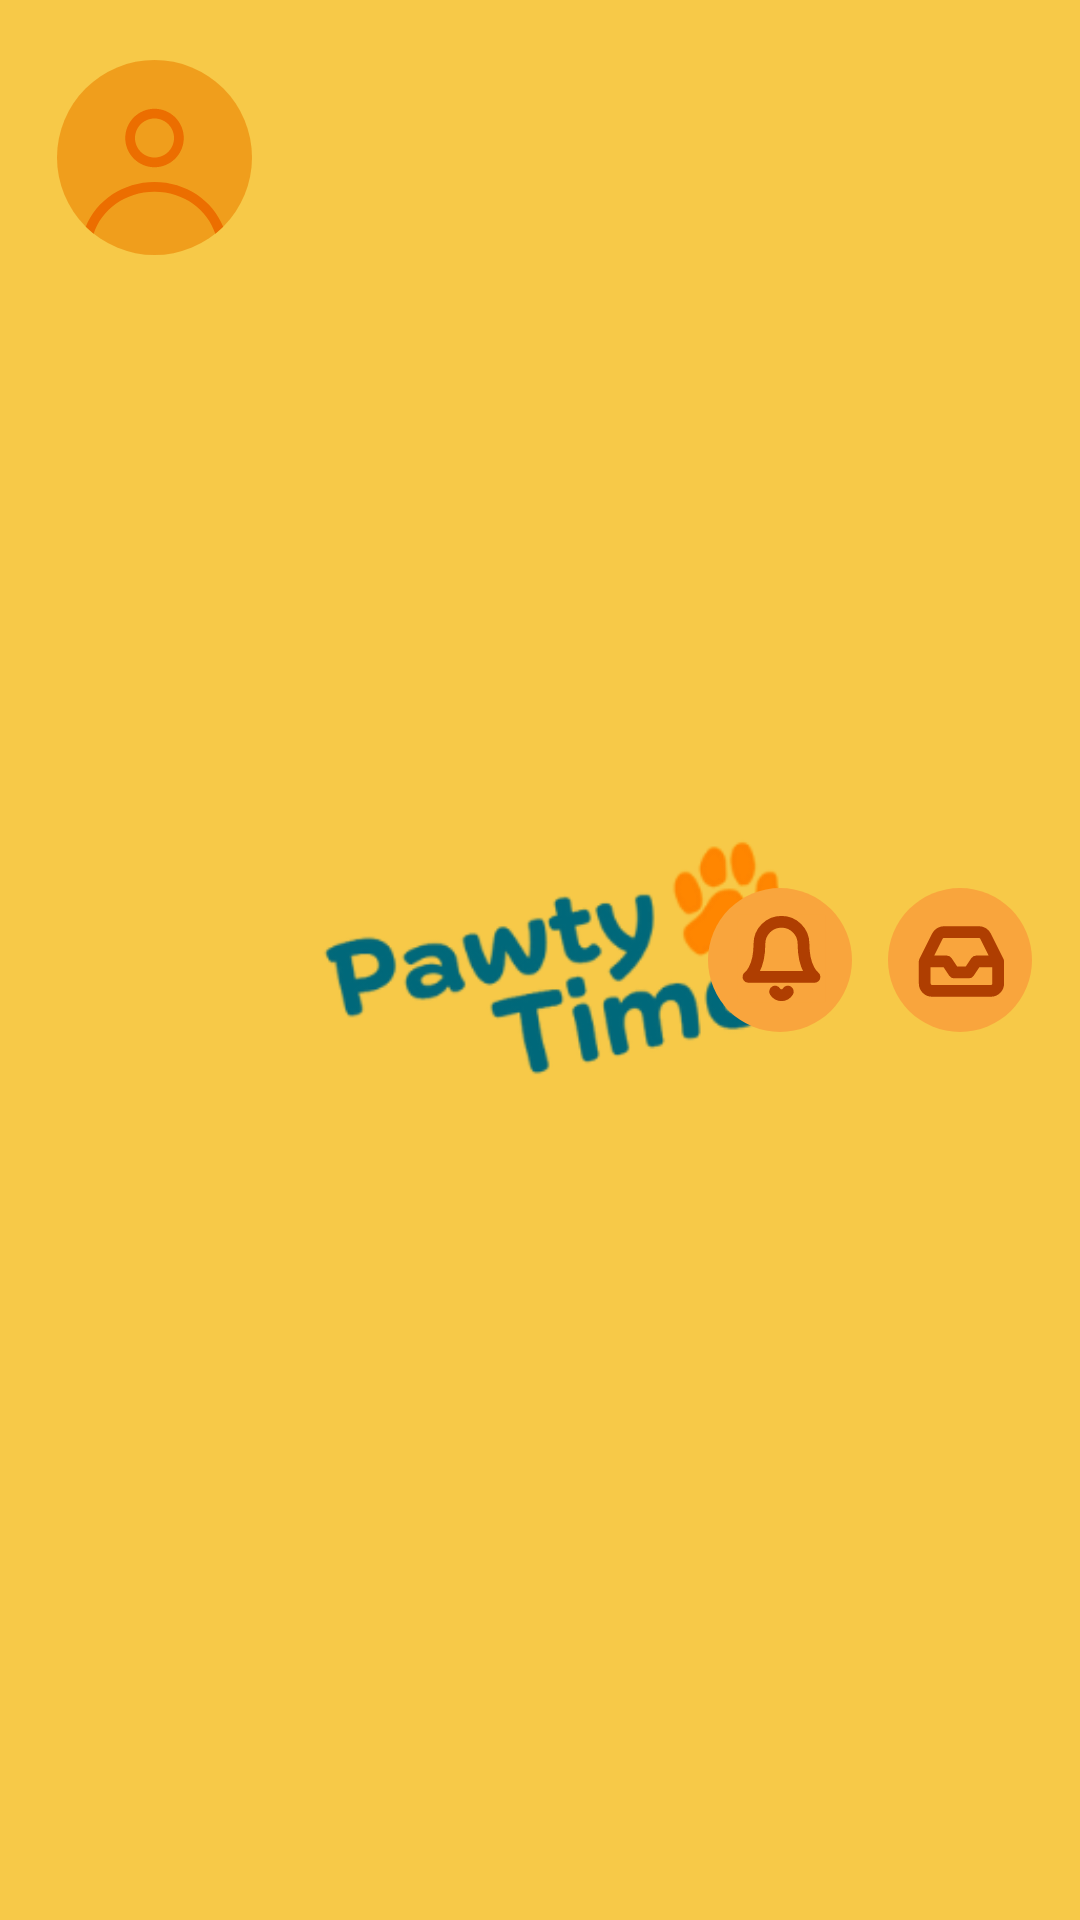

Where to tap for icons on this 1080px×1920px app screen, as point (x, y):
Inbox: point (960, 960)
Notifications: point (780, 960)
Profile picture: point (154, 157)
